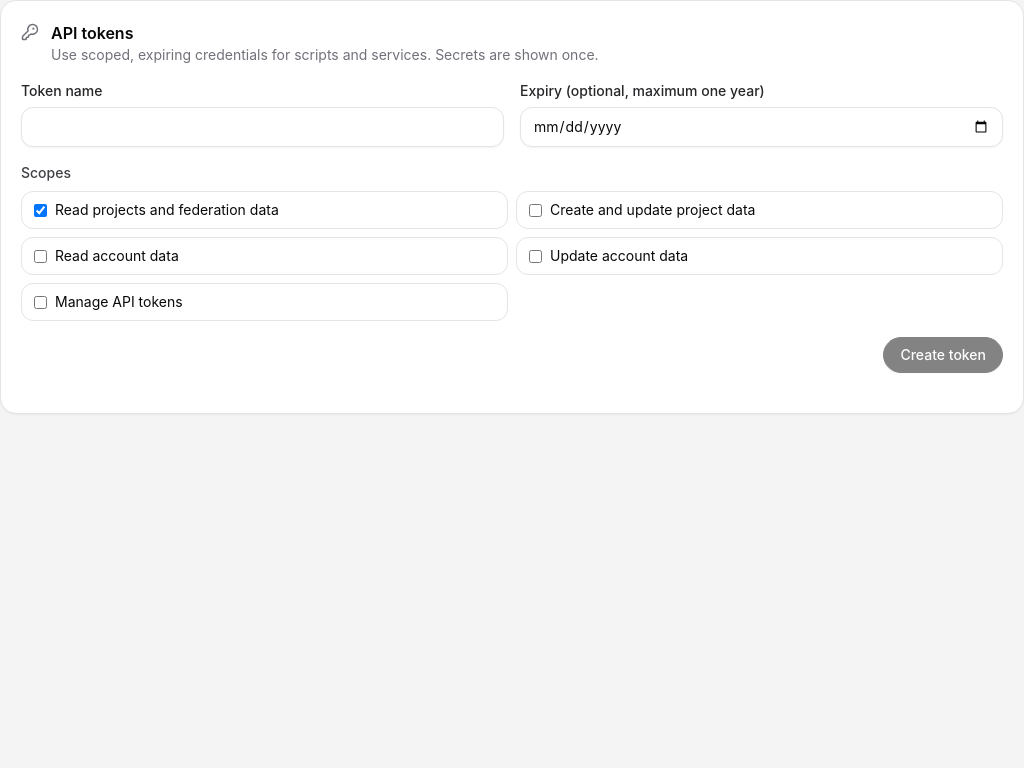
APITokenPanel › creates a scoped token and presents its secret once
Type "Build" into the field labelled "Token name" at [262, 127], box [21,107,504,147]
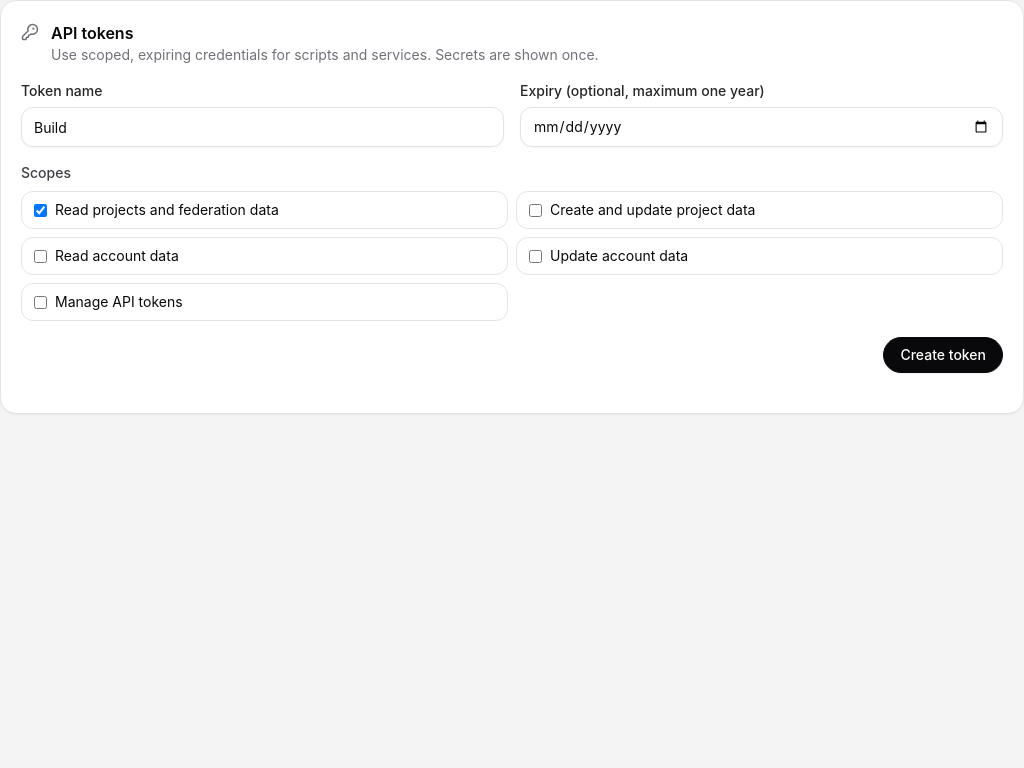
Click the button "Create token" at [943, 355], box [883,337,1003,373]
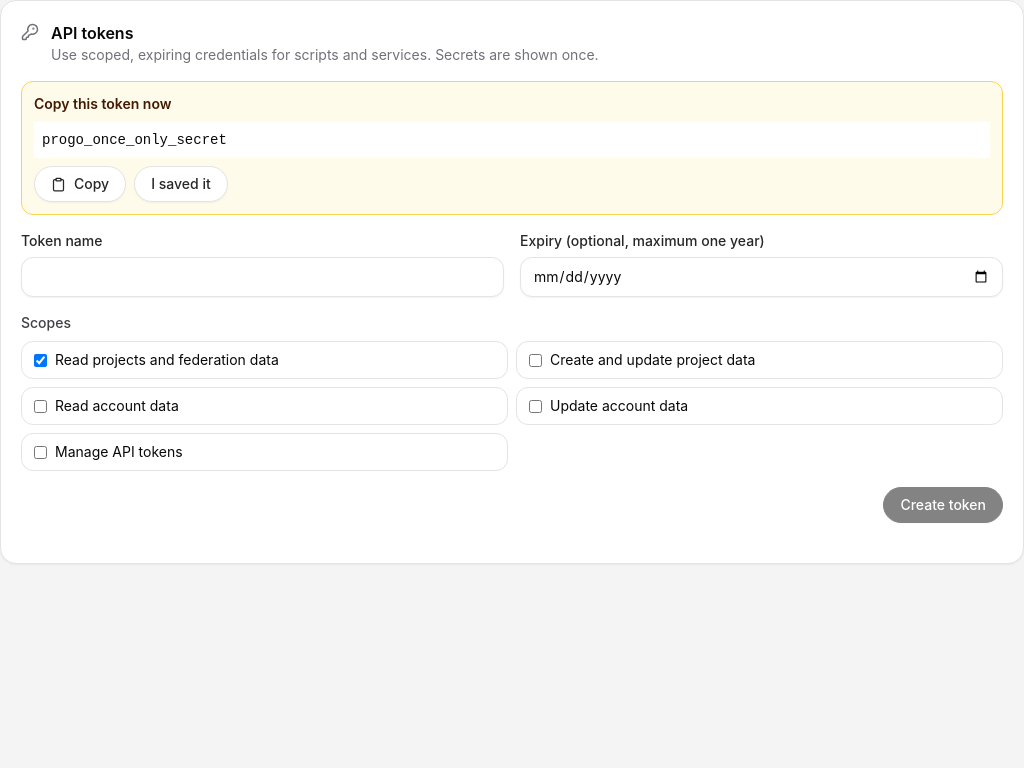
expect the text "progo_once_only_secret" is shown: met, box [34,122,990,158]
Click the button "I saved it" at [181, 184], box [134,166,228,202]
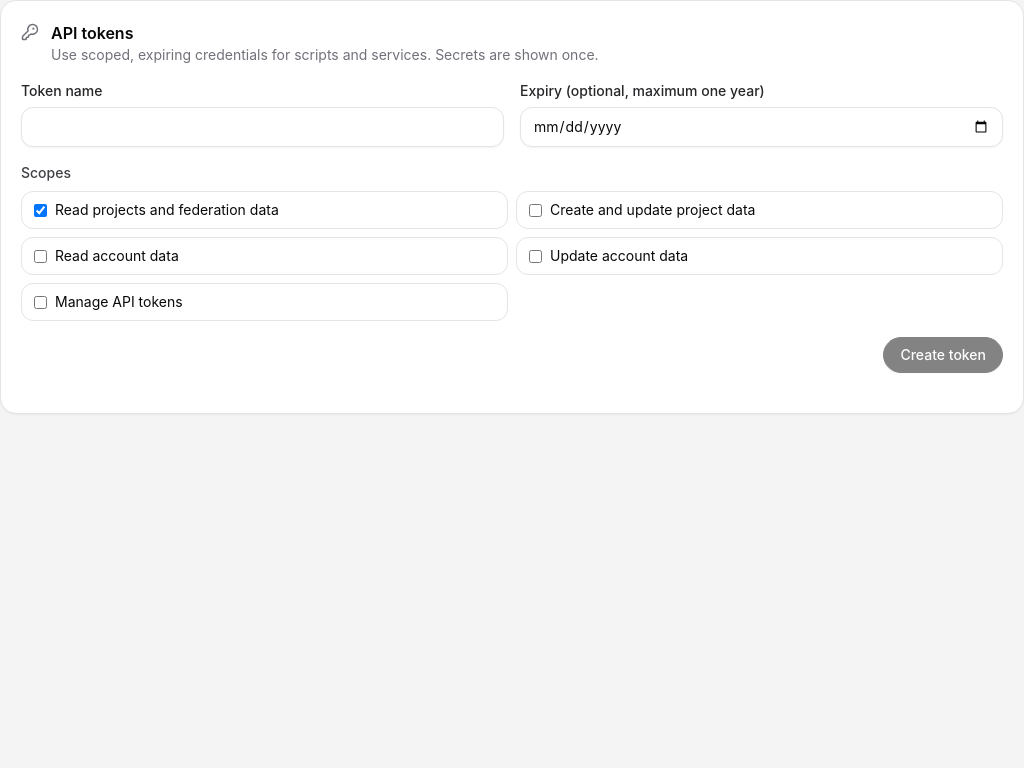
expect the text "progo_once_only_secret" is gone: met
